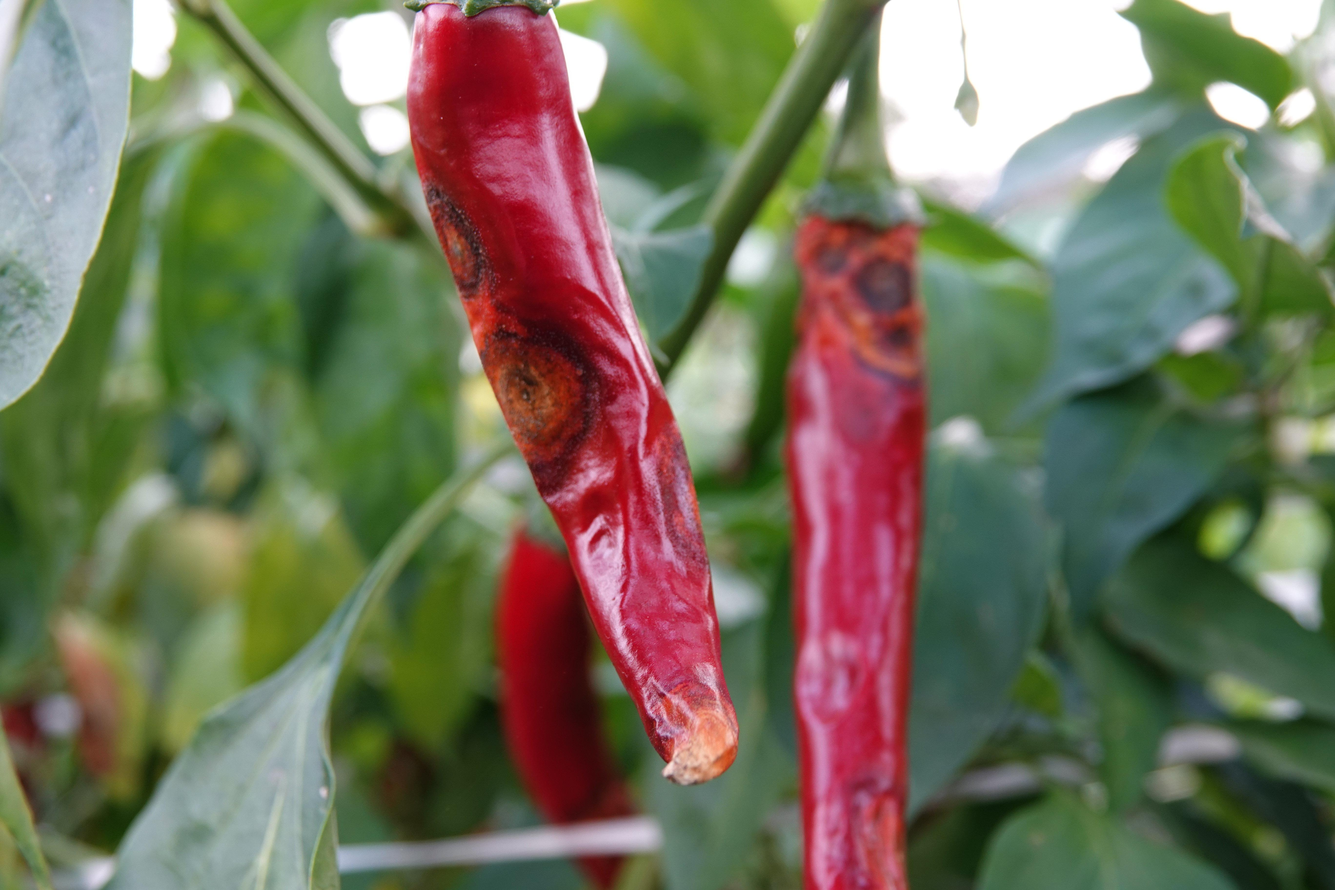Busuk Buah Antraknosa: (402, 2, 743, 788), (781, 172, 932, 890)
